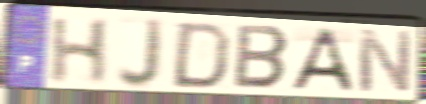A: (287, 25, 356, 94)
B: (232, 22, 293, 92)
D: (168, 20, 234, 91)
H: (47, 17, 113, 86)
J: (115, 16, 167, 92)
N: (355, 26, 414, 95)
